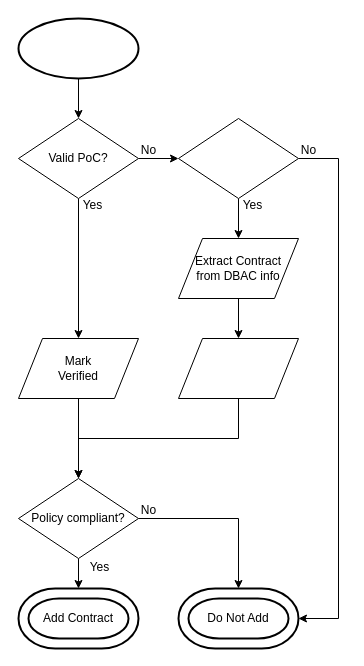
Image size: 364x666. Some labels were removed from this diagram. The centre of each missing label's shape, as x and y in pixels:
Add SxC Contract: point 78,48
Can get DBAC contract?: point 238,158
Mark Extracted: point 238,368
